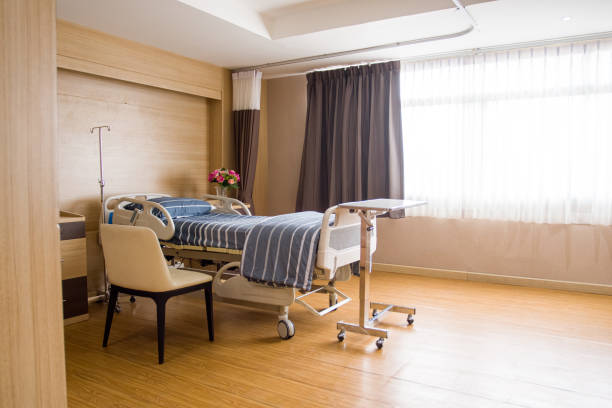bedrail: (211, 261, 296, 306), (112, 197, 175, 241), (201, 195, 254, 225)
bedside_table: (43, 211, 99, 322)
chair: (98, 224, 214, 364)
foot_board: (317, 202, 377, 279)
hospital_bed: (103, 194, 377, 340)
iv_pole: (91, 125, 110, 299)
overbed_table: (337, 199, 429, 349)
